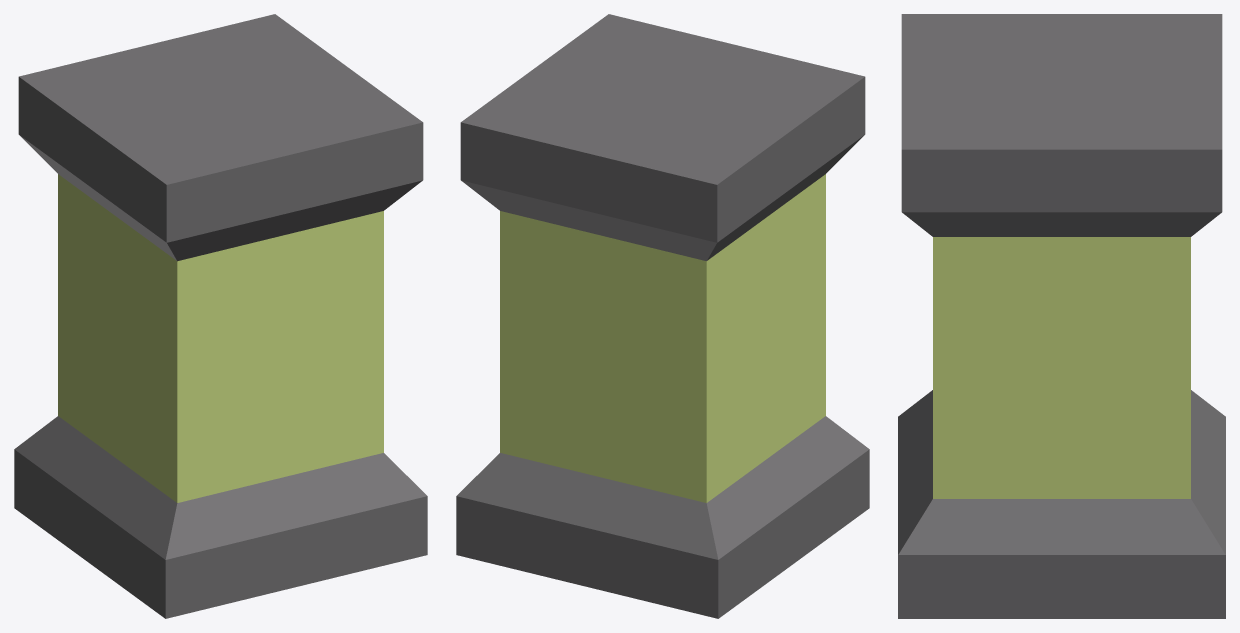
Rendered from RayStageT3.fbx.
3 views of the same model, side by side, from view 1: azimuth 30°, elevation 25°; view 2: azimuth 150°, elevation 25°; view 3: azimuth 270°, elevation 25° (orthographic). The views are drawn at different scales.
Parts seen in each view (by area): view 1: 立方体.001; view 2: 立方体.001; view 3: 立方体.001.
Part boxes in pixels (<box>): 立方体.001: <box>14,14,427,618</box>; 立方体.001: <box>456,14,869,618</box>; 立方体.001: <box>898,14,1225,618</box>.
Size of the model in its own units: 1.27 by 2 by 1.27.
